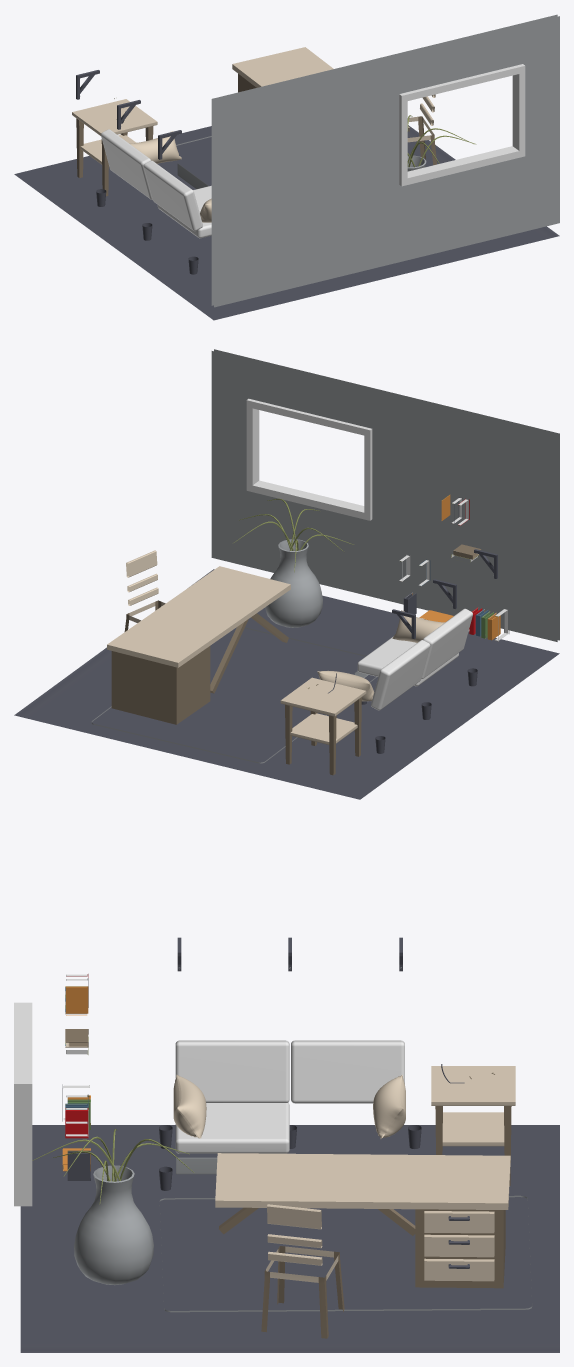
File: object_5_lev1.glb
3 views of the same model, one above another, from view 1: azimuth 30°, elevation 25°; view 2: azimuth 150°, elevation 25°; view 3: azimuth 270°, elevation 25° (orthographic). The views are drawn at different scales.
Parts seen in each view (by area): view 1: object_5_lev1; view 2: object_5_lev1; view 3: object_5_lev1.
Part boxes in pixels (x1,y1,x2,y2): object_5_lev1: [14, 14, 559, 320]; object_5_lev1: [14, 349, 559, 799]; object_5_lev1: [14, 937, 559, 1352].
Bounding box in the file's own units: 28 × 17.02 × 28.34.
Materials: 1 (1 with a texture image).
